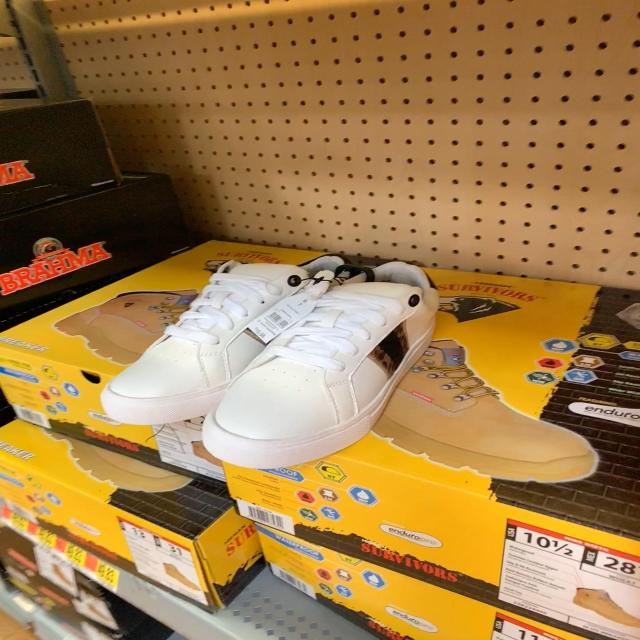shoe: (200, 263, 436, 471), (102, 255, 353, 422)
